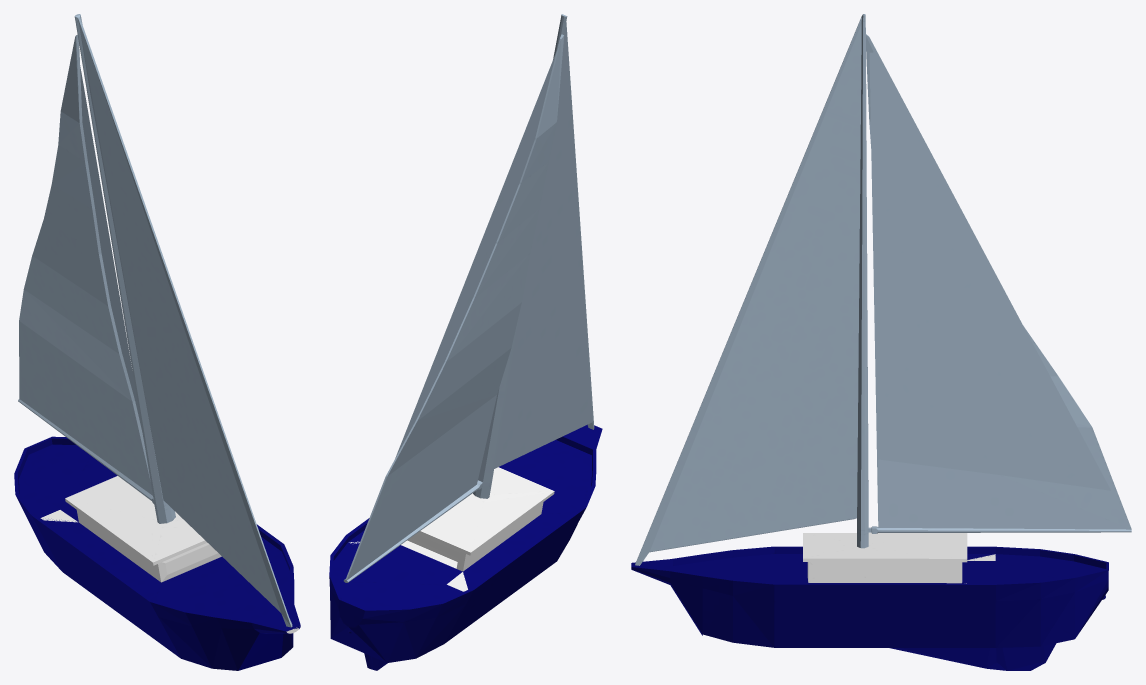
File: Sailboat.fbx
3 renders of one model, left to right at view 1: azimuth 30°, elevation 25°; view 2: azimuth 150°, elevation 25°; view 3: azimuth 270°, elevation 25°, orthographic. The views are drawn at different scales.
Parts seen in each view (by area): view 1: Yacht; view 2: Yacht; view 3: Yacht.
Boxes of the visible parts, box(x1,y1,x2,y2) form: Yacht: box(14, 14, 300, 670); Yacht: box(329, 14, 602, 670); Yacht: box(631, 14, 1131, 670).
Bounding box in the file's own units: 4.47 × 17.19 × 12.85.
1 material, 1 textured.
